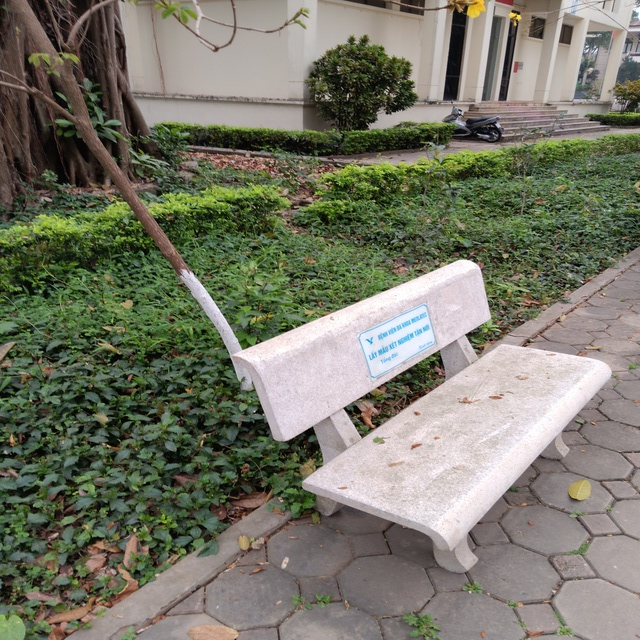gheda: (231, 257, 625, 571)
